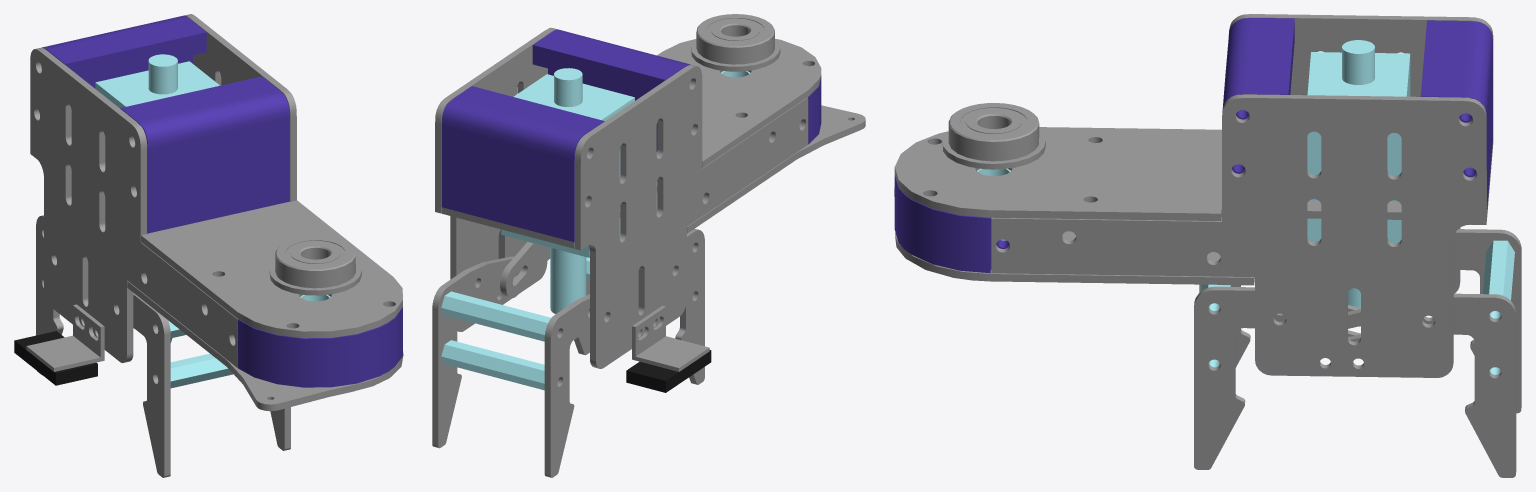
The model's file is M3_Gripper_2.fbx.
The picture shows the model from 3 angles, left to right: view 1: azimuth 30°, elevation 25°; view 2: azimuth 150°, elevation 25°; view 3: azimuth 270°, elevation 25°; orthographic projection. The views are drawn at different scales.
Visible parts, largest first — view 1: M3_Gripper; view 2: M3_Gripper; view 3: M3_Gripper.
Part boxes in pixels (left/top/right/bottom): M3_Gripper: left=14, top=14, right=403, bottom=477; M3_Gripper: left=432, top=14, right=865, bottom=477; M3_Gripper: left=894, top=14, right=1521, bottom=477.
Bounding box in the file's own units: 6.5 × 10.48 × 15.17.
